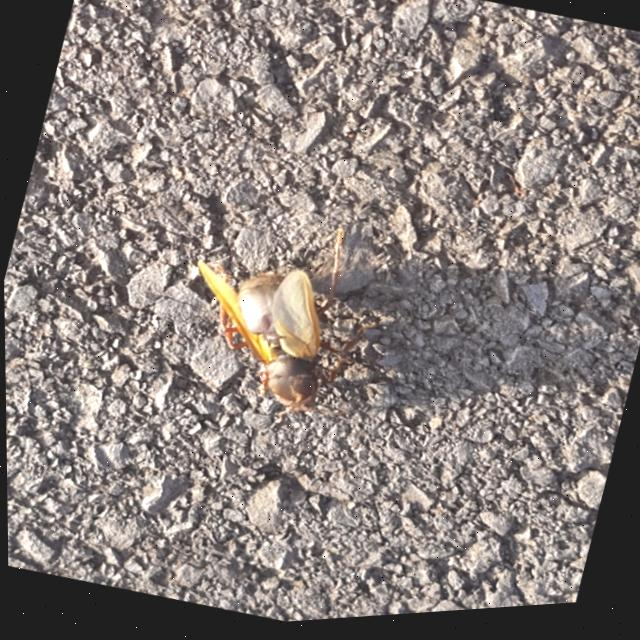Alive-Female-Alate: (161, 197, 399, 446)
